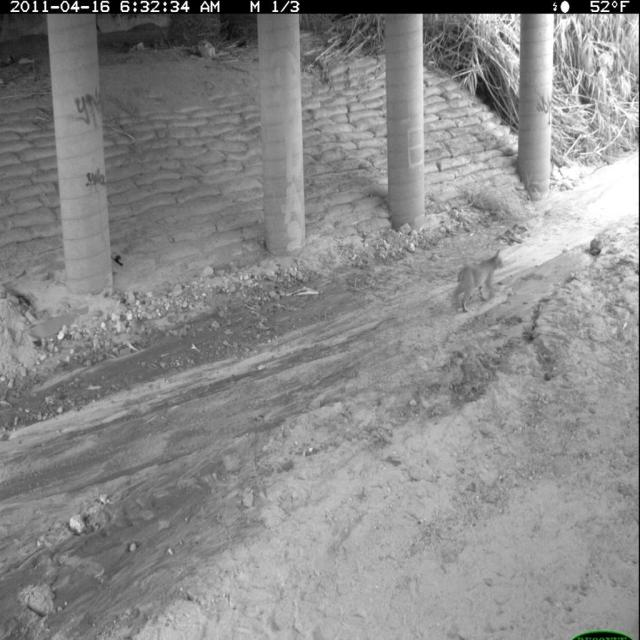bobcat: (451, 247, 507, 318)
